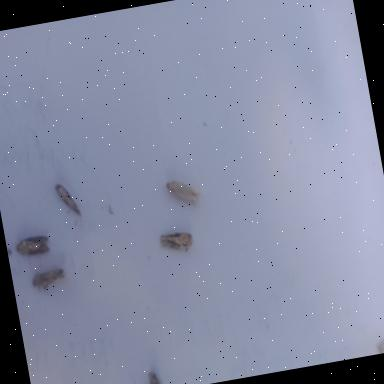pbw: (158, 226, 198, 258), (166, 176, 202, 207), (54, 179, 82, 218), (30, 268, 67, 294), (12, 234, 52, 258), (142, 368, 163, 384)
